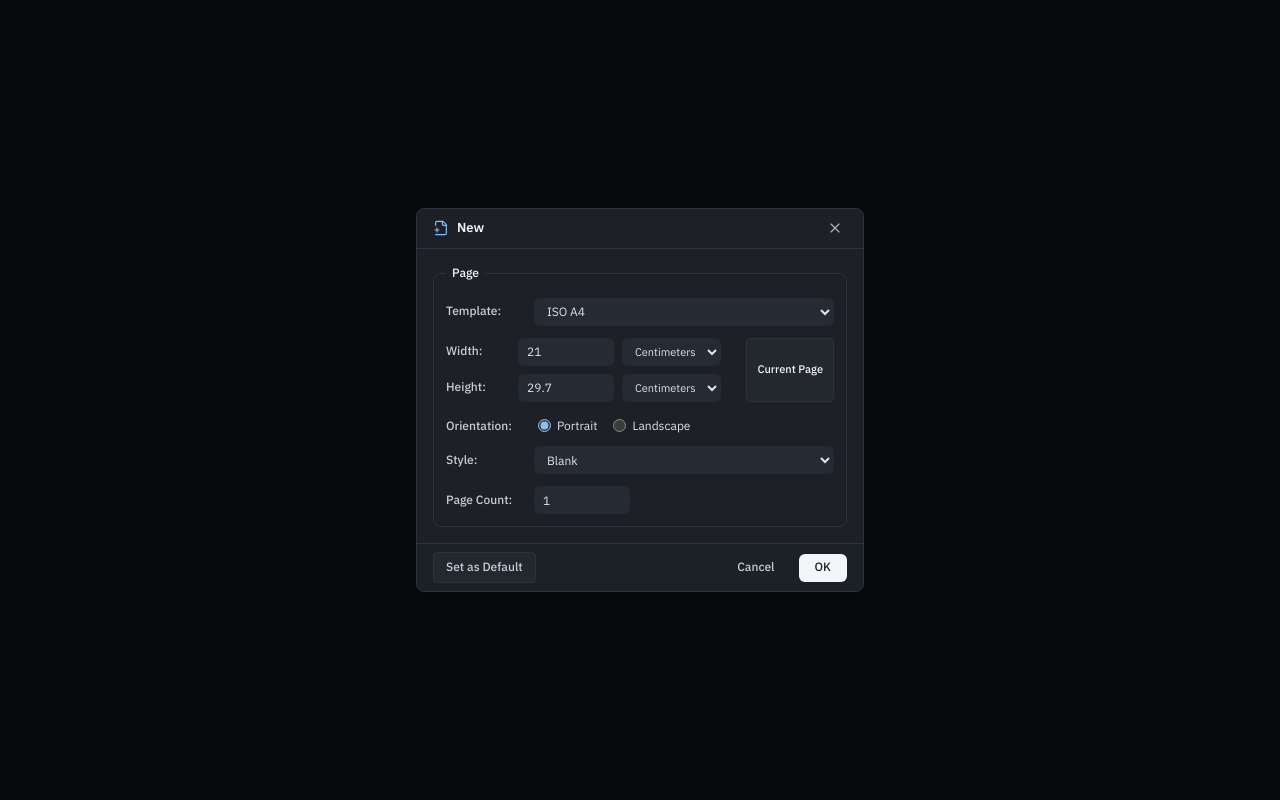
Test: NewPdfDialog Component › el botón "Current Page" copia las dimensiones de la página activa cuando hay documento
What coordinates should you click on to do the following:
click the button with test id "new-pdf-current-page"
I would click on:
 (790, 370)
Its box is [746,338,834,402].
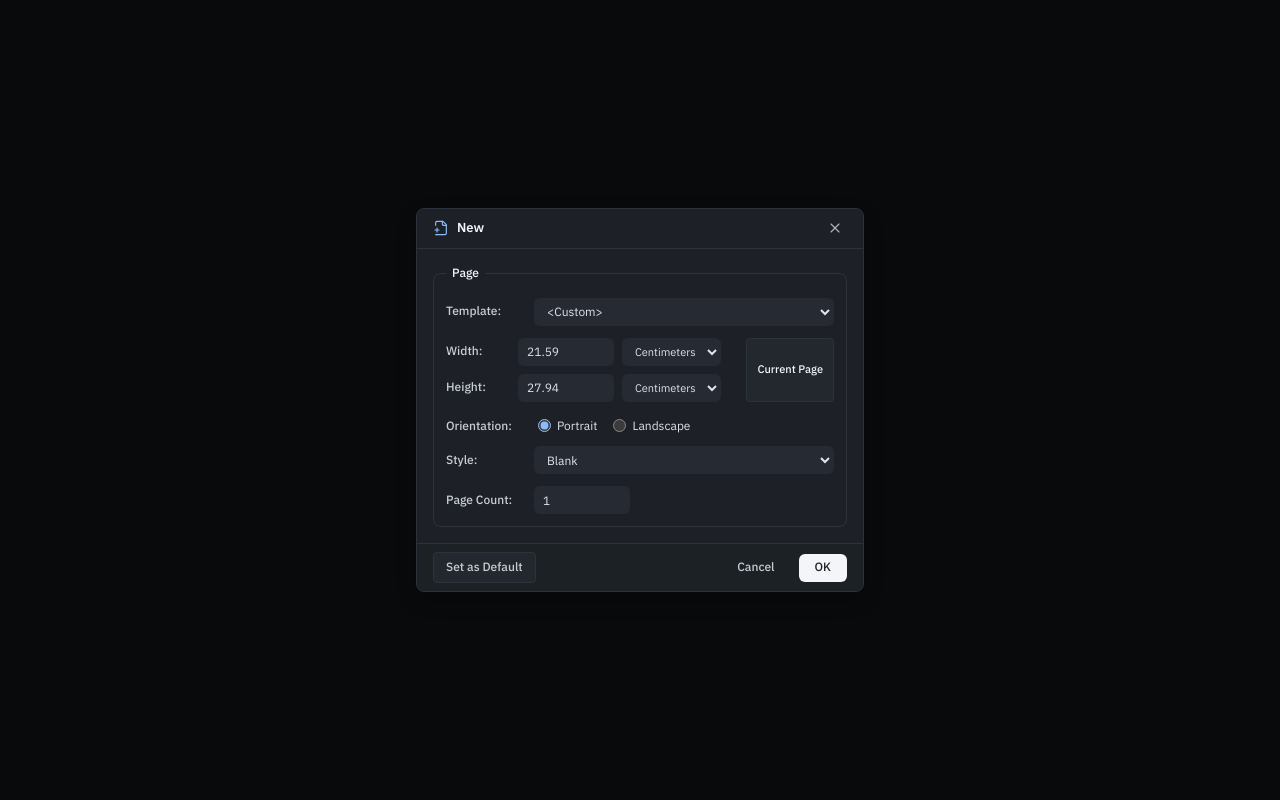
Expected: the dropdown with test id "new-pdf-template" shows "<Custom>", [534,298,834,326]
